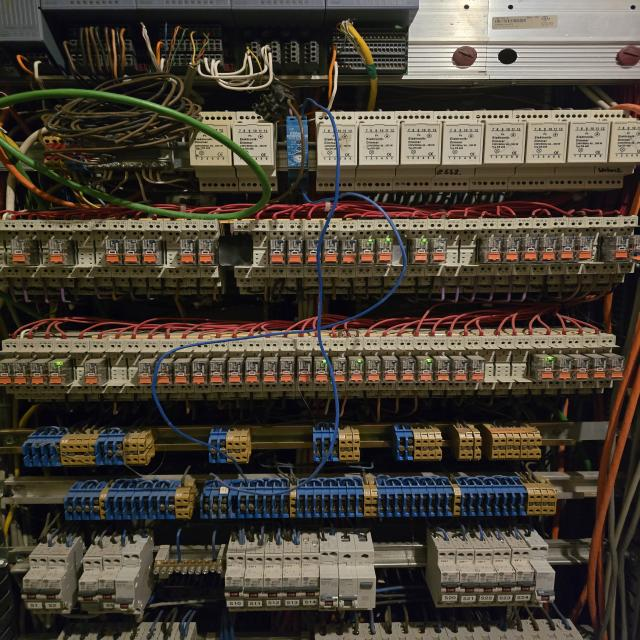Dimmer: (545, 110, 611, 189), (508, 110, 569, 190), (469, 110, 526, 190), (430, 111, 486, 191), (584, 110, 640, 188), (189, 112, 240, 191), (392, 111, 442, 190), (354, 111, 401, 191), (231, 112, 277, 191), (315, 112, 358, 192), (287, 116, 309, 195)
FI_Sicherungskombi: (336, 551, 376, 611)
Relais: (47, 357, 74, 387), (80, 358, 108, 386), (48, 237, 75, 266), (530, 353, 555, 381), (10, 237, 32, 264), (479, 237, 502, 262), (409, 237, 429, 264), (297, 356, 312, 390), (502, 237, 522, 262), (587, 354, 607, 379), (569, 354, 589, 379), (323, 232, 338, 265), (142, 239, 161, 265), (198, 239, 217, 265), (576, 235, 595, 261), (11, 359, 30, 385), (30, 359, 49, 385), (606, 354, 624, 381), (227, 357, 244, 385), (467, 356, 485, 382), (450, 356, 468, 382), (105, 235, 121, 264), (262, 357, 278, 386), (348, 356, 364, 385), (430, 236, 447, 263), (0, 358, 17, 385), (192, 358, 209, 385), (381, 356, 398, 383), (433, 355, 450, 382), (314, 356, 329, 386), (358, 237, 374, 265), (377, 236, 393, 264), (209, 357, 225, 385), (522, 235, 539, 261), (173, 358, 190, 384), (416, 356, 433, 382), (245, 357, 260, 386), (279, 356, 294, 385), (365, 356, 380, 385), (611, 236, 629, 260), (540, 237, 558, 261), (123, 239, 140, 264), (180, 239, 196, 265), (269, 239, 285, 265), (340, 239, 356, 265), (138, 359, 154, 385), (400, 356, 416, 382), (559, 236, 576, 260), (157, 359, 172, 386), (554, 355, 570, 380), (288, 240, 303, 264), (332, 357, 346, 382), (628, 234, 640, 263), (306, 240, 319, 263)
Sicherungen_230V: (525, 545, 556, 607), (22, 554, 50, 614), (42, 554, 70, 614), (114, 554, 141, 616), (507, 548, 535, 606), (79, 557, 106, 615), (488, 549, 515, 606), (434, 549, 460, 608), (471, 549, 497, 607), (453, 549, 478, 607), (98, 554, 122, 613), (243, 553, 265, 611), (225, 552, 246, 611), (319, 550, 339, 611), (282, 553, 302, 611), (263, 554, 283, 611), (300, 552, 319, 610)
Verbinder: (199, 475, 557, 518), (63, 480, 196, 520), (22, 429, 156, 467), (483, 423, 541, 460), (394, 424, 442, 461), (313, 426, 360, 463), (207, 427, 250, 463), (453, 424, 480, 461)
